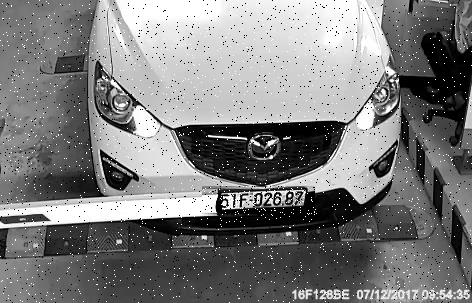License-plate: (203, 188, 316, 217)
